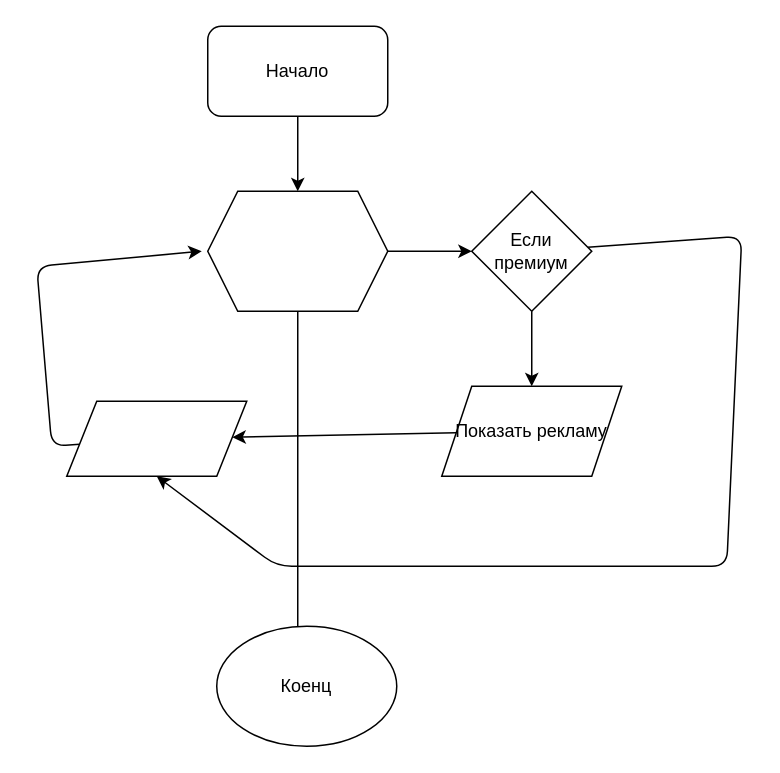
Image size: 780x773. Some labels were removed from this diagram. Each missing label, with the centre of its shape:
"Вывести пользователей" goes at [297,250].
"Приветсвие" goes at [156,438].
